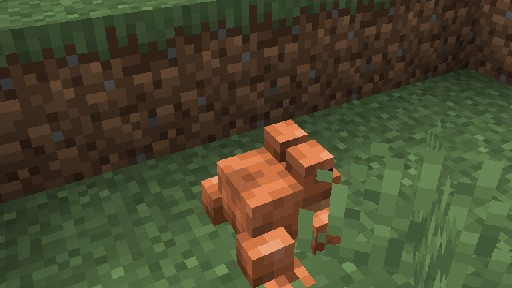frog: (200, 118, 349, 288)
